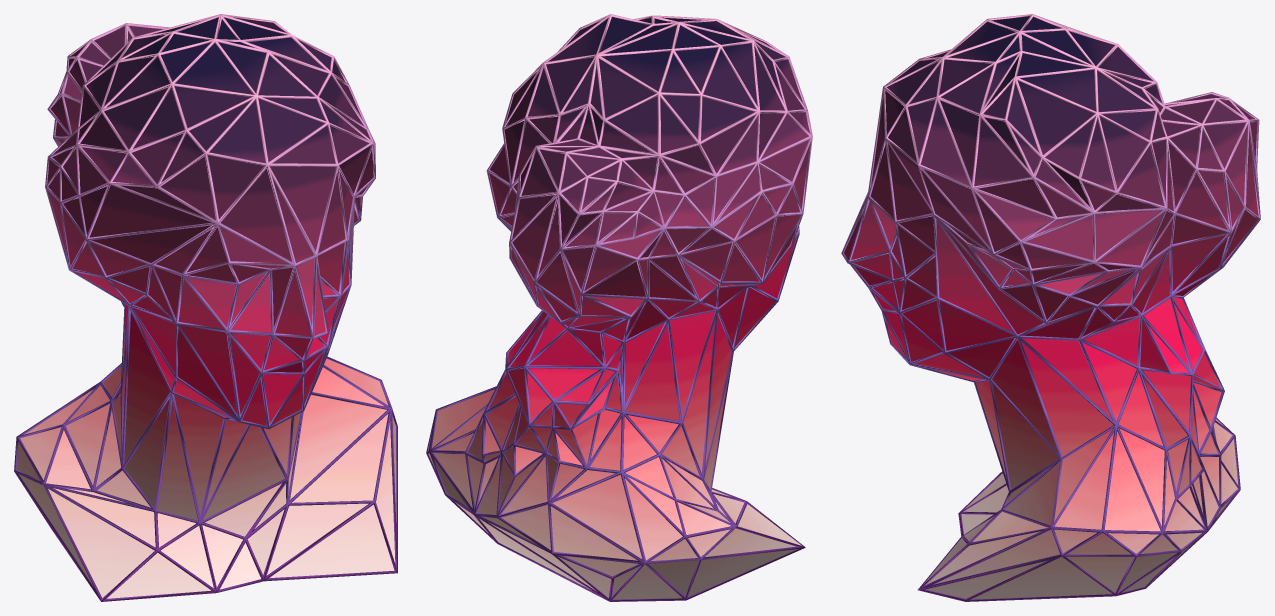
Rendered from Structure_Retro_Venus_Artfbx.fbx.
3 renders of one model, left to right at view 1: azimuth 30°, elevation 25°; view 2: azimuth 150°, elevation 25°; view 3: azimuth 270°, elevation 25°, orthographic. The views are drawn at different scales.
Parts seen in each view (by area): view 1: Structure_Retro_Venus_Bust, Structure_Retro_Venus_Art; view 2: Structure_Retro_Venus_Bust, Structure_Retro_Venus_Art; view 3: Structure_Retro_Venus_Bust, Structure_Retro_Venus_Art.
Part boxes in pixels (x1=…): Structure_Retro_Venus_Bust: x1=16, y1=17, x2=396, y2=598; Structure_Retro_Venus_Art: x1=14, y1=14, x2=397, y2=601; Structure_Retro_Venus_Bust: x1=428, y1=17, x2=809, y2=599; Structure_Retro_Venus_Art: x1=426, y1=14, x2=812, y2=601; Structure_Retro_Venus_Bust: x1=844, y1=16, x2=1258, y2=599; Structure_Retro_Venus_Art: x1=841, y1=14, x2=1260, y2=601.
Size of the model in its own units: 2.48 by 3.68 by 2.8.
